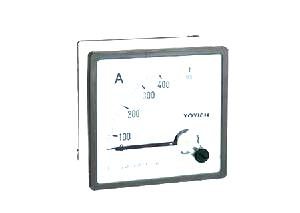pointer: (96, 54, 222, 184)
